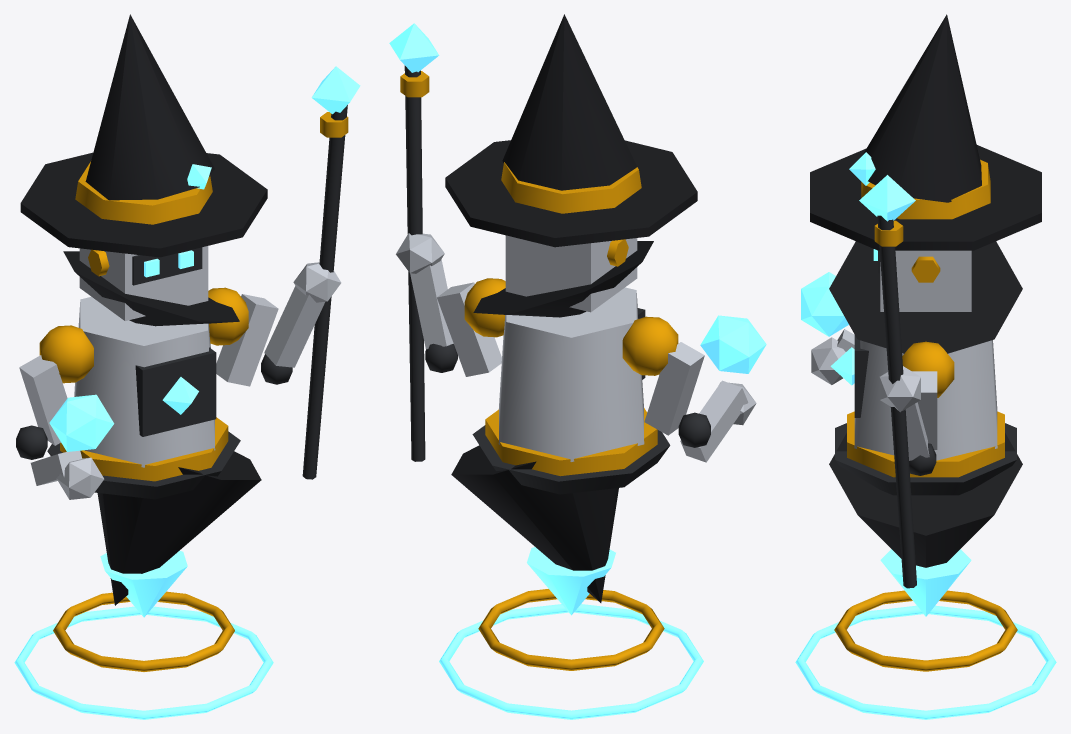
Rendered from player-robot-4.glb.
3 views of the same model, side by side, from view 1: azimuth 30°, elevation 25°; view 2: azimuth 150°, elevation 25°; view 3: azimuth 270°, elevation 25° (orthographic). The views are drawn at different scales.
Visible parts, largest first — view 1: hat_cone, hat_brim, torso, robe_skirt, ring_lower, chest_plate, staff, head, ring_upper, collar, hat_band, arm_right_upper (+17 smaller); view 2: torso, hat_cone, hat_brim, robe_skirt, head, ring_lower, staff, ring_upper, collar, robe_hem, belt, hat_band (+13 smaller); view 3: hat_cone, hat_brim, collar, torso, robe_skirt, ring_lower, staff, head, ring_upper, robe_hem, belt, hover_glow (+14 smaller).
Part boxes in pixels (box(x1,y1,x2,y2)): hat_cone: box(85, 14, 214, 200); hat_brim: box(20, 152, 267, 257); torso: box(74, 296, 215, 467); robe_skirt: box(97, 451, 261, 605); ring_lower: box(14, 606, 273, 719); chest_plate: box(135, 347, 216, 436); staff: box(302, 105, 347, 479); head: box(79, 246, 208, 320); ring_upper: box(53, 591, 234, 671); collar: box(63, 251, 239, 326); hat_band: box(75, 161, 212, 224); arm_right_upper: box(216, 294, 278, 386); torso: box(498, 287, 644, 461); hat_cone: box(502, 14, 636, 190); hat_brim: box(445, 140, 697, 247); robe_skirt: box(451, 445, 618, 602); head: box(505, 235, 637, 312); ring_lower: box(439, 604, 703, 719); staff: box(404, 65, 425, 461); ring_upper: box(478, 589, 664, 670); collar: box(473, 241, 653, 317); robe_hem: box(472, 425, 670, 494); belt: box(485, 408, 657, 476); hat_band: box(501, 162, 641, 213); hat_cone: box(862, 14, 981, 202); hat_brim: box(810, 145, 1041, 250); collar: box(829, 241, 1022, 353); torso: box(854, 340, 997, 460); robe_skirt: box(829, 433, 1022, 567); ring_lower: box(795, 605, 1056, 719); staff: box(877, 215, 916, 588); head: box(880, 250, 971, 311); ring_upper: box(834, 590, 1017, 671); robe_hem: box(835, 423, 1016, 495); belt: box(847, 411, 1004, 477); hover_glow: box(880, 549, 971, 616).
Size of the model in its own units: 1.35 by 2.52 by 0.916.
